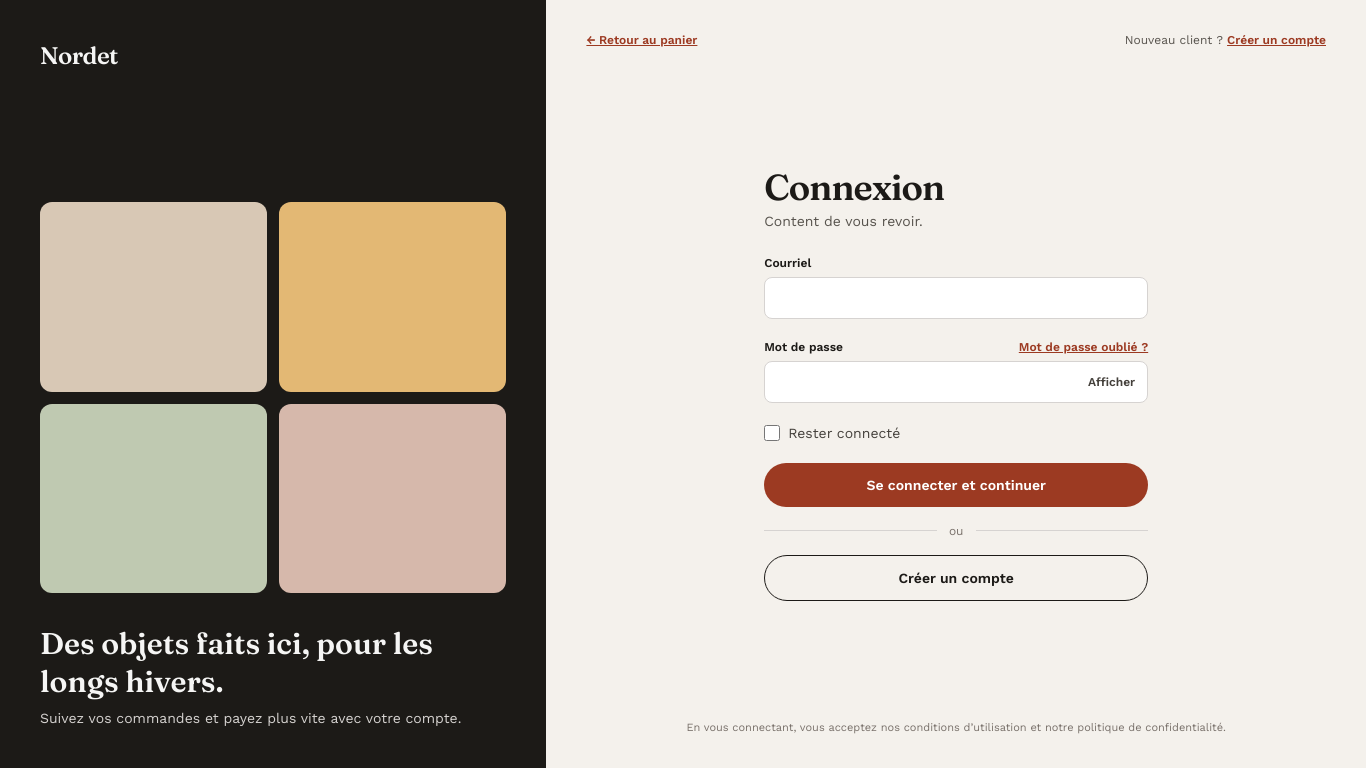
ConnexionPage › shows the backend error and stays on the page when the login fails
Type "julie@test.com" into the field labelled "Courriel". click: (956, 298)
box: left=764, top=277, right=1148, bottom=319
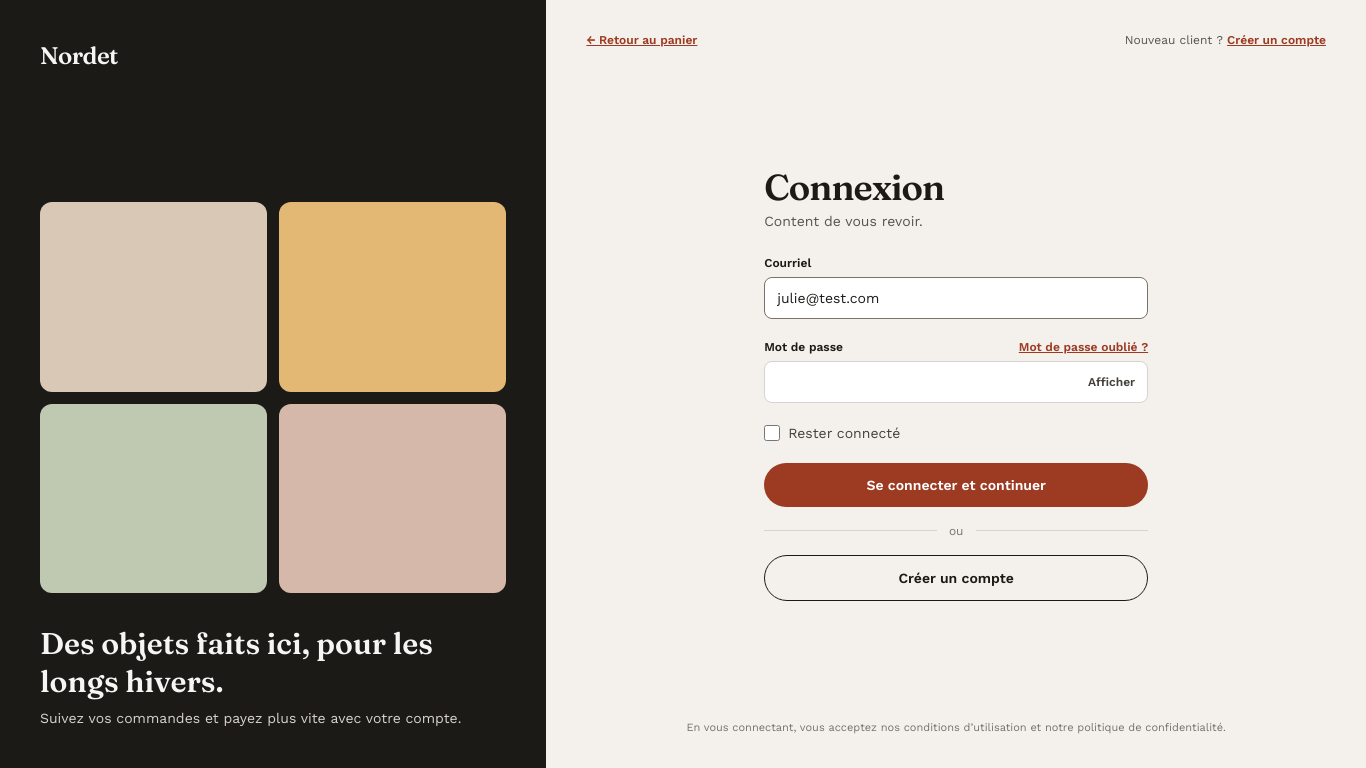
Type "MauvaisMotDePasse1!" into the password field labelled "Mot de passe". click: (921, 382)
box: left=765, top=362, right=1076, bottom=402
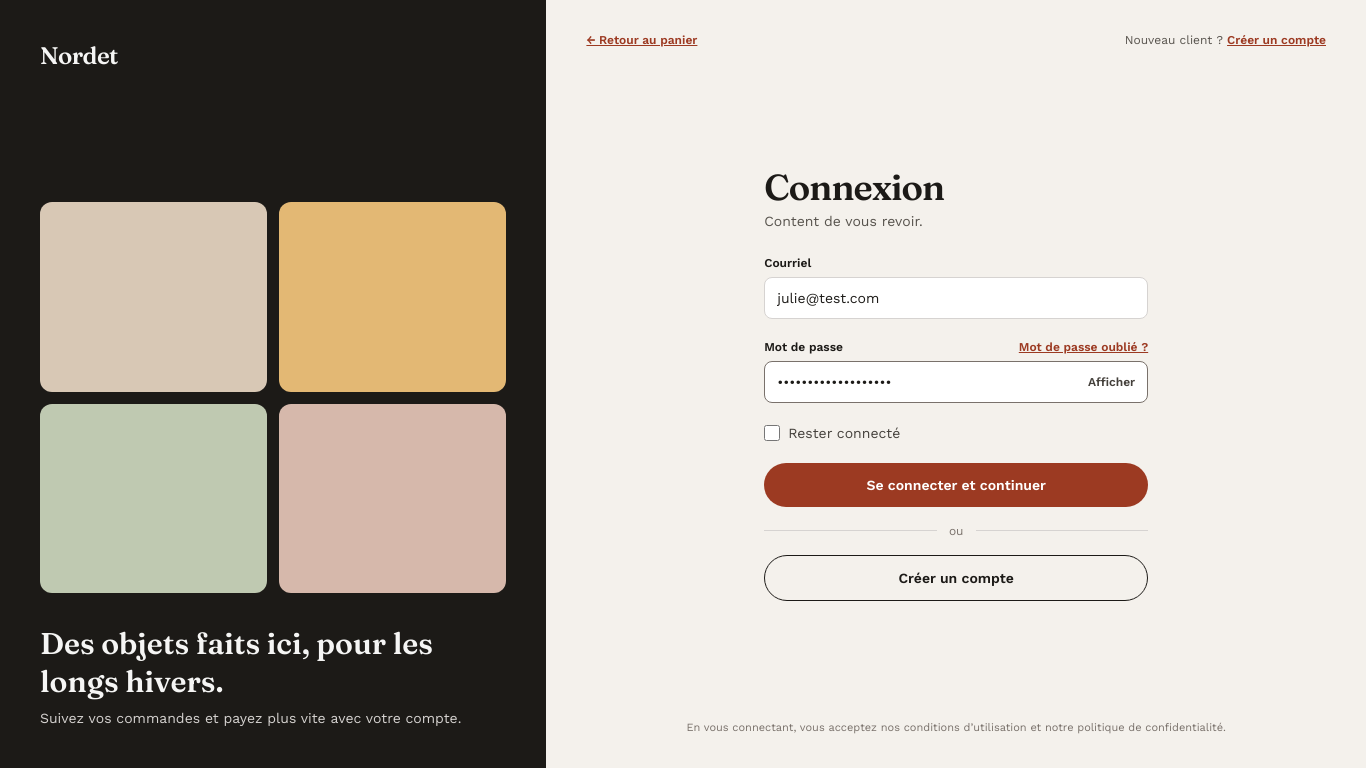
Click the button "Se connecter et continuer". click: (956, 485)
box: left=764, top=463, right=1148, bottom=507
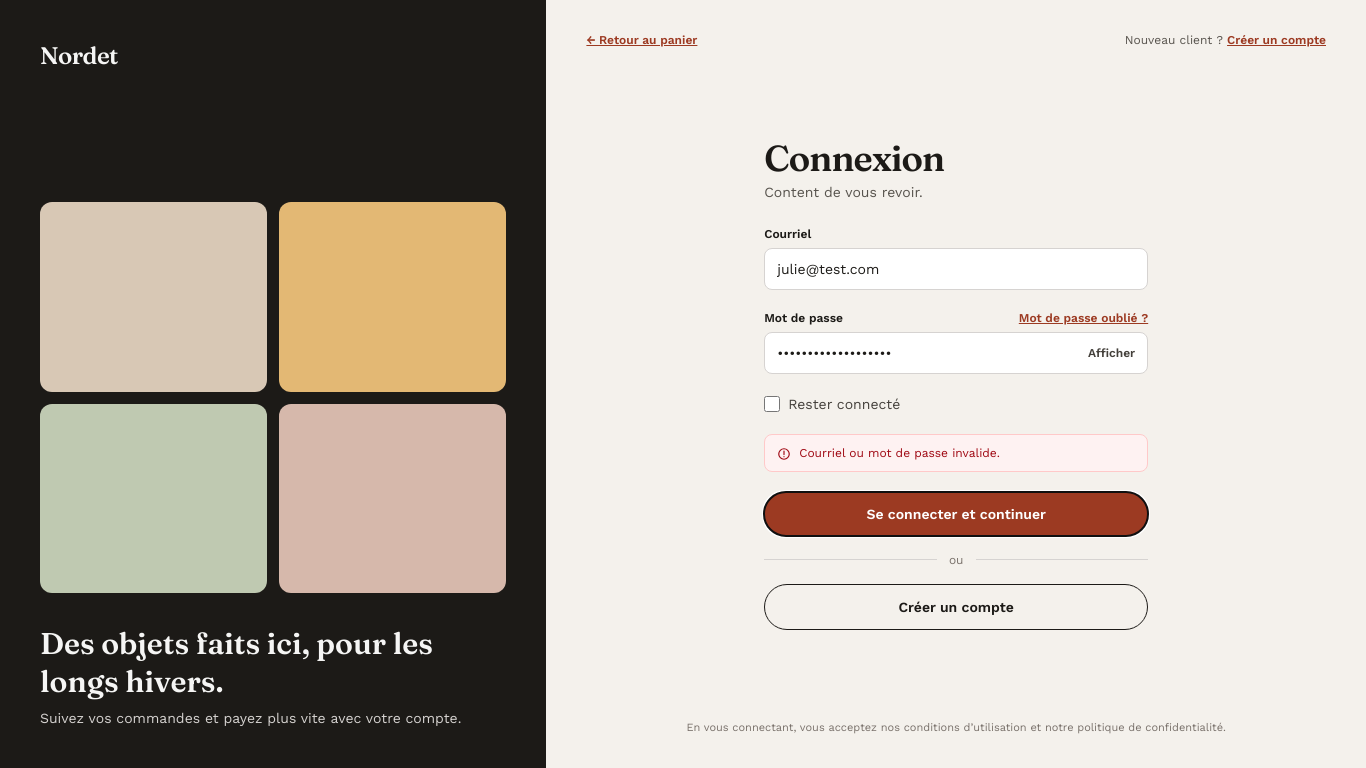
Expected: the heading "Connexion" is shown, left=764, top=136, right=944, bottom=180
Result: the message reads "Courriel ou mot de passe invalide." at left=799, top=446, right=1000, bottom=460
